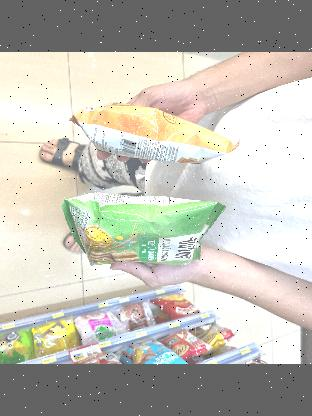Others: (58, 185, 224, 271), (65, 96, 244, 168)
